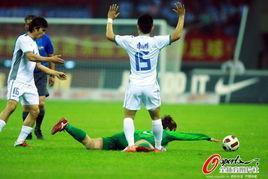Fall-Detected: (46, 107, 223, 149)
